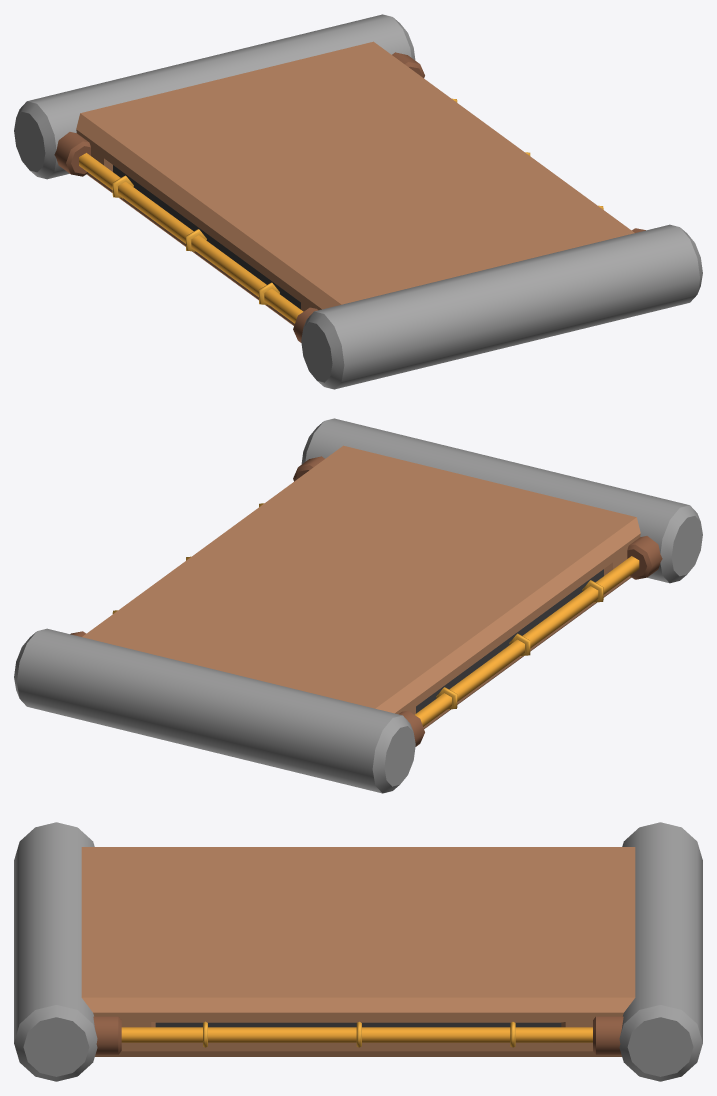
Rendered from obstacle_9_001.fbx.
3 views of the same model, one above another, from view 1: azimuth 30°, elevation 25°; view 2: azimuth 150°, elevation 25°; view 3: azimuth 270°, elevation 25° (orthographic). The views are drawn at different scales.
Parts seen in each view (by area): view 1: obstacle_9_001; view 2: obstacle_9_001; view 3: obstacle_9_001.
Boxes of the visible parts, x1,y1,x2,y2 form: obstacle_9_001: [14, 14, 702, 389]; obstacle_9_001: [14, 418, 702, 793]; obstacle_9_001: [14, 822, 702, 1081].
Size of the model in its own units: 415 by 636 by 78.29.
